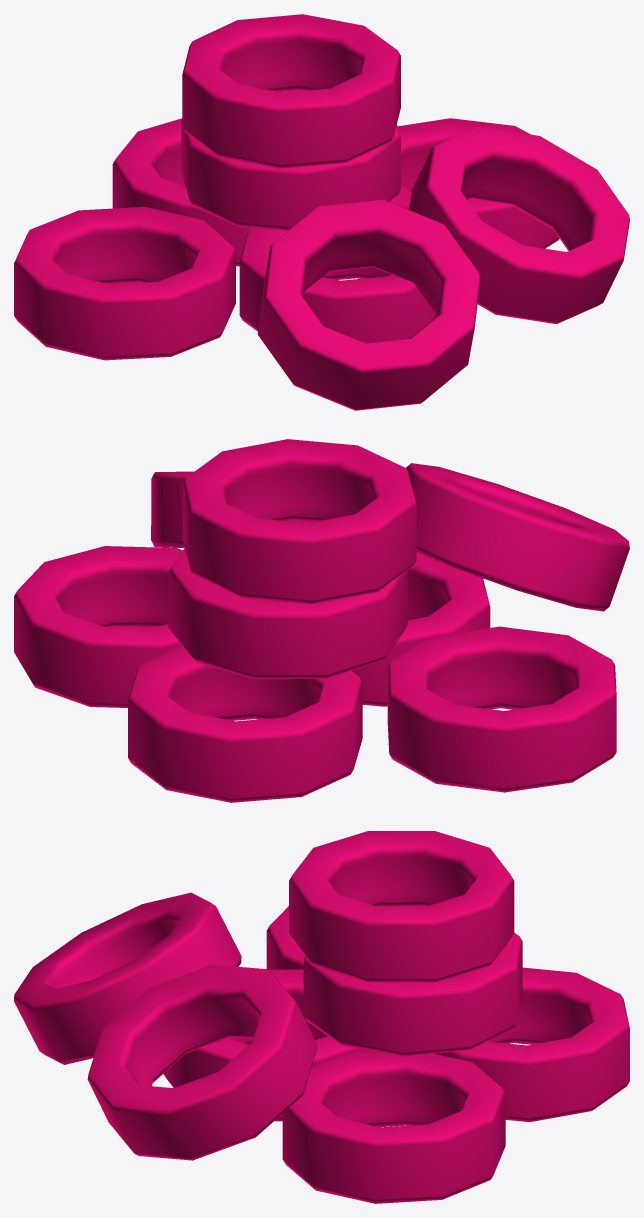
The model's file is Tire_Pile_01_Lod1.fbx.
The picture shows the model from 3 angles, top to bottom: view 1: azimuth 30°, elevation 25°; view 2: azimuth 150°, elevation 25°; view 3: azimuth 270°, elevation 25°; orthographic projection. The views are drawn at different scales.
Visible parts, largest first — view 1: Tire_Pile_01_Lod1; view 2: Tire_Pile_01_Lod1; view 3: Tire_Pile_01_Lod1.
Boxes of the visible parts, x1,y1,x2,y2 form: Tire_Pile_01_Lod1: [14, 14, 629, 410]; Tire_Pile_01_Lod1: [14, 439, 629, 802]; Tire_Pile_01_Lod1: [14, 831, 629, 1203].
Bounding box in the file's own units: 211 × 77.88 × 212.
